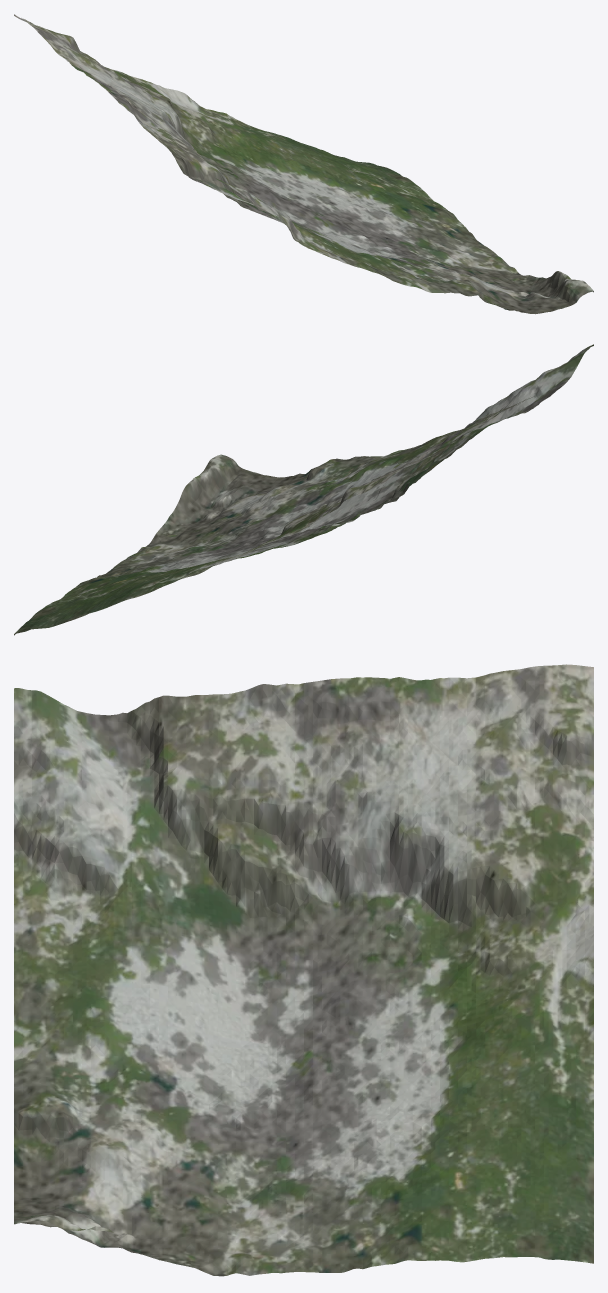
3 renders of one model, top to bottom at view 1: azimuth 30°, elevation 25°; view 2: azimuth 150°, elevation 25°; view 3: azimuth 270°, elevation 25°, orthographic. The views are drawn at different scales.
Size of the model in its own units: 250 by 165 by 241.
1 material, 1 textured.
